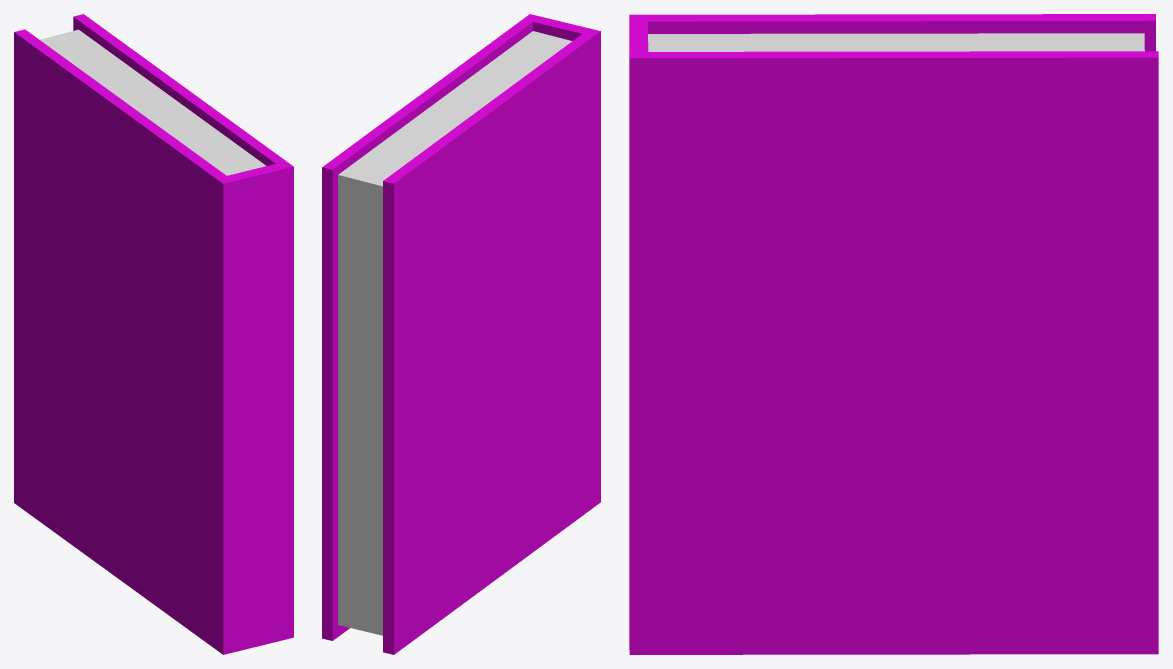
File: Libro.fbx
3 renders of one model, left to right at view 1: azimuth 30°, elevation 25°; view 2: azimuth 150°, elevation 25°; view 3: azimuth 270°, elevation 25°, orthographic. The views are drawn at different scales.
Visible parts, largest first — view 1: escritorio_libro01; view 2: escritorio_libro01; view 3: escritorio_libro01.
Boxes of the visible parts, x1,y1,x2,y2 form: escritorio_libro01: [14, 14, 293, 654]; escritorio_libro01: [322, 14, 600, 654]; escritorio_libro01: [629, 14, 1158, 654].
Size of the model in its own units: 2.13 by 13.34 by 10.73.
